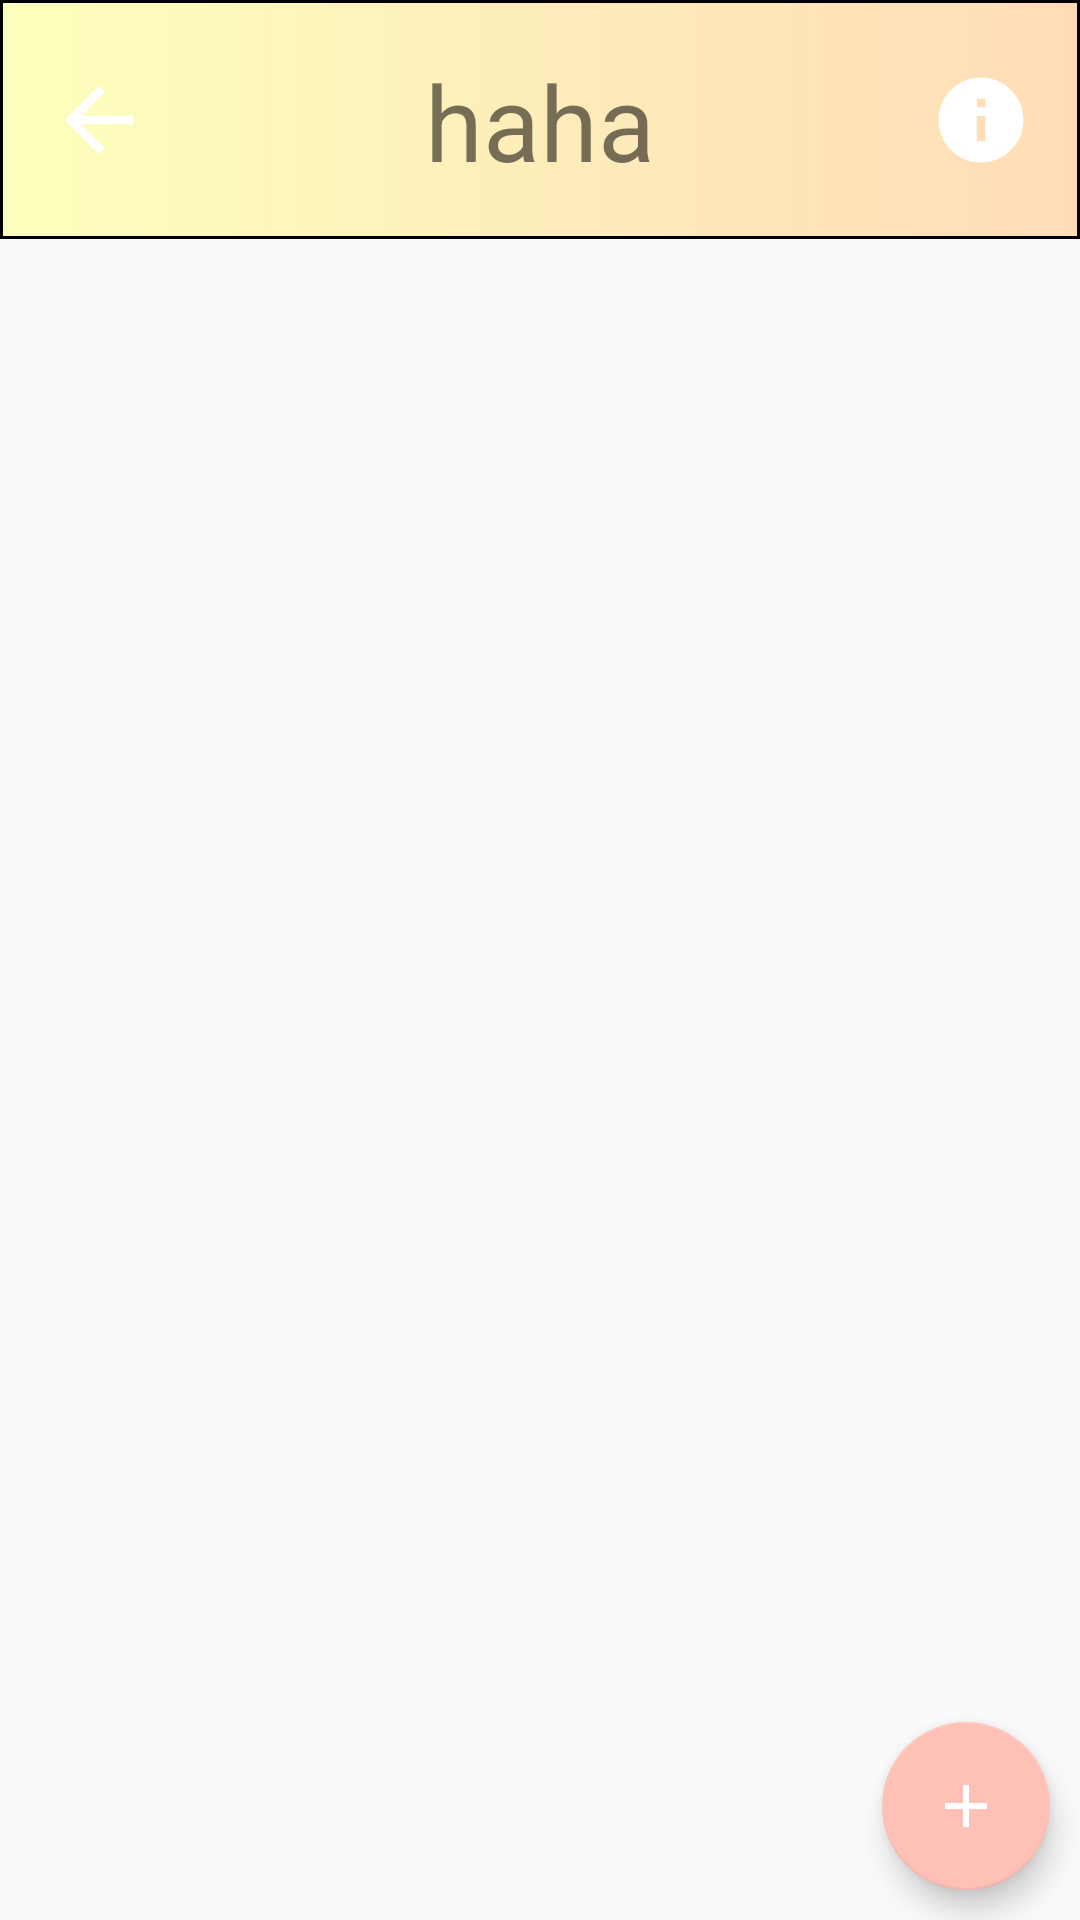

Icon bounding boxes for this 1080*1920 phone screenshot, format (x1, y1, x2, y2):
add: (882, 1722, 1050, 1890)
arrow back: (65, 86, 133, 154)
info: (938, 77, 1024, 163)
